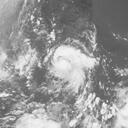cyclone: (52, 45, 90, 85)
